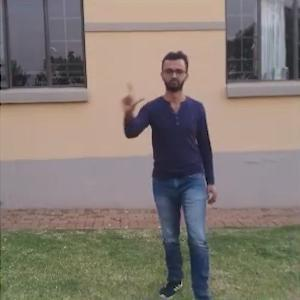land_hand: (115, 76, 146, 114)
